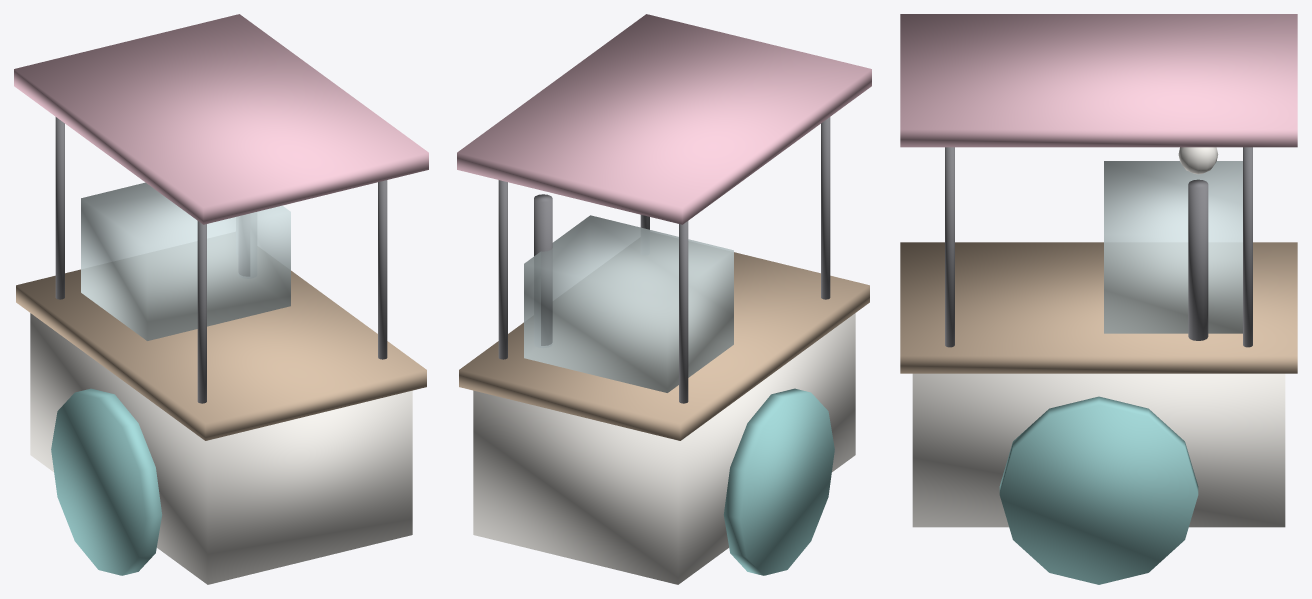
Rendered from food_street_lv1.glb.
3 views of the same model, side by side, from view 1: azimuth 30°, elevation 25°; view 2: azimuth 150°, elevation 25°; view 3: azimuth 270°, elevation 25° (orthographic). The views are drawn at different scales.
Parts seen in each view (by area): view 1: cart1_canopy, cart1_body, cart1_table, showcase, cart1_w_l, cart1_p_rl, cart1_p_fl, cart1_p_rr, cart1_chimney; view 2: cart1_canopy, cart1_body, showcase, cart1_table, cart1_w_l, cart1_chimney, cart1_p_fl, cart1_p_rl, cart1_p_fr; view 3: cart1_canopy, cart1_table, cart1_body, cart1_w_r, showcase, cart1_chimney, cart1_p_fr, cart1_p_rr, cart1_steam1.
Boxes of the visible parts, x1=… form: cart1_canopy: x1=14, y1=14, x2=428, y2=224; cart1_body: x1=30, y1=313, x2=412, y2=584; cart1_table: x1=16, y1=269, x2=426, y2=440; showcase: x1=81, y1=182, x2=290, y2=340; cart1_w_l: x1=51, y1=388, x2=162, y2=575; cart1_p_rl: x1=197, y1=221, x2=206, y2=403; cart1_p_fl: x1=55, y1=117, x2=64, y2=299; cart1_p_rr: x1=378, y1=180, x2=387, y2=359; cart1_chimney: x1=238, y1=214, x2=250, y2=276; cart1_canopy: x1=457, y1=14, x2=871, y2=224; cart1_body: x1=473, y1=313, x2=855, y2=584; showcase: x1=524, y1=215, x2=733, y2=392; cart1_table: x1=459, y1=252, x2=869, y2=440; cart1_w_l: x1=723, y1=388, x2=834, y2=575; cart1_chimney: x1=534, y1=194, x2=552, y2=345; cart1_p_fl: x1=679, y1=221, x2=688, y2=403; cart1_p_rl: x1=821, y1=117, x2=830, y2=299; cart1_p_fr: x1=498, y1=180, x2=507, y2=359; cart1_canopy: x1=900, y1=14, x2=1297, y2=147; cart1_table: x1=900, y1=242, x2=1297, y2=373; cart1_body: x1=912, y1=373, x2=1285, y2=527; cart1_w_r: x1=999, y1=396, x2=1198, y2=584; showcase: x1=1104, y1=161, x2=1242, y2=333; cart1_chimney: x1=1188, y1=179, x2=1208, y2=340; cart1_p_fr: x1=1243, y1=147, x2=1252, y2=347; cart1_p_rr: x1=945, y1=147, x2=954, y2=347; cart1_steam1: x1=1178, y1=147, x2=1218, y2=174.
Size of the model in its own units: 0.6 by 1 by 0.8.
